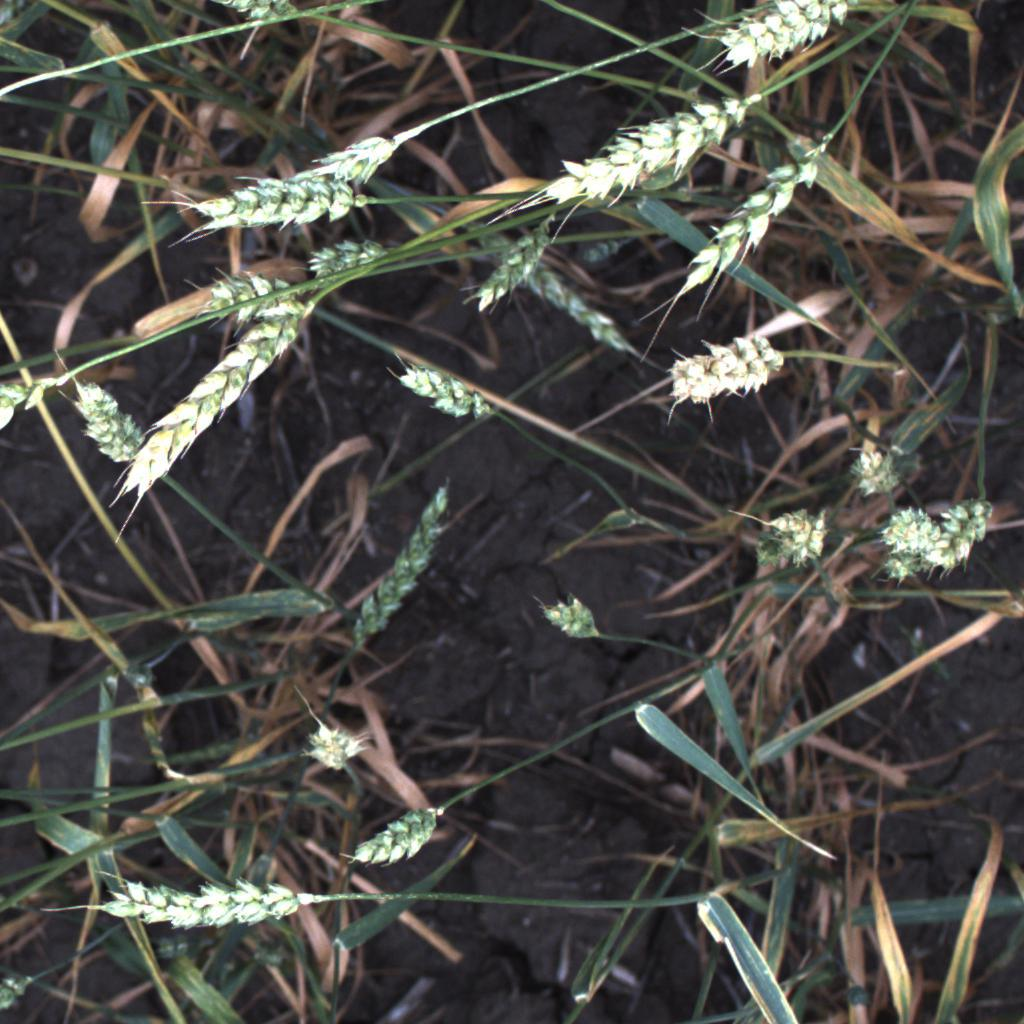0-0: (104, 293, 323, 510), (532, 76, 751, 220), (677, 122, 845, 308), (84, 835, 315, 951), (345, 464, 459, 655), (640, 293, 800, 429), (492, 236, 633, 359), (171, 170, 373, 233), (697, 0, 871, 72), (62, 376, 160, 490), (333, 797, 459, 882), (390, 340, 510, 426), (459, 212, 558, 307), (274, 122, 402, 189), (186, 267, 301, 329), (0, 352, 70, 447), (921, 486, 998, 572), (173, 0, 332, 39), (289, 717, 375, 780), (761, 500, 835, 573), (865, 502, 945, 555), (531, 595, 604, 652), (840, 433, 905, 496), (301, 240, 395, 281), (873, 534, 939, 591), (114, 0, 369, 2), (373, 0, 520, 2)
